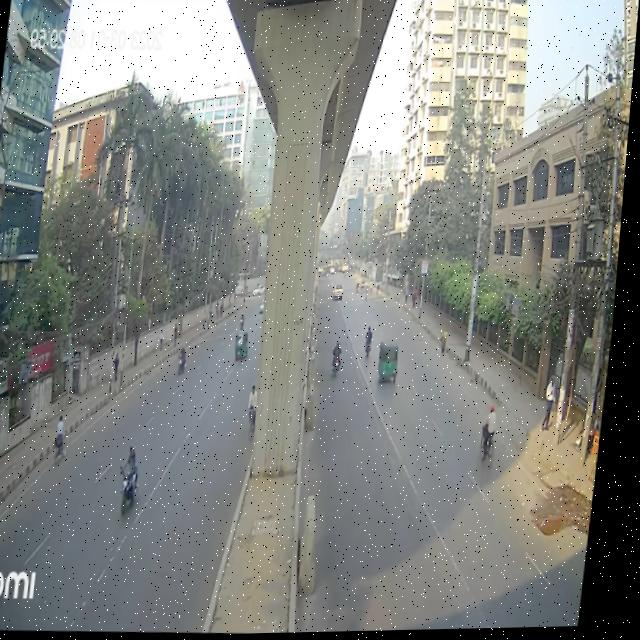cng: (379, 333, 409, 389), (237, 325, 260, 363)
